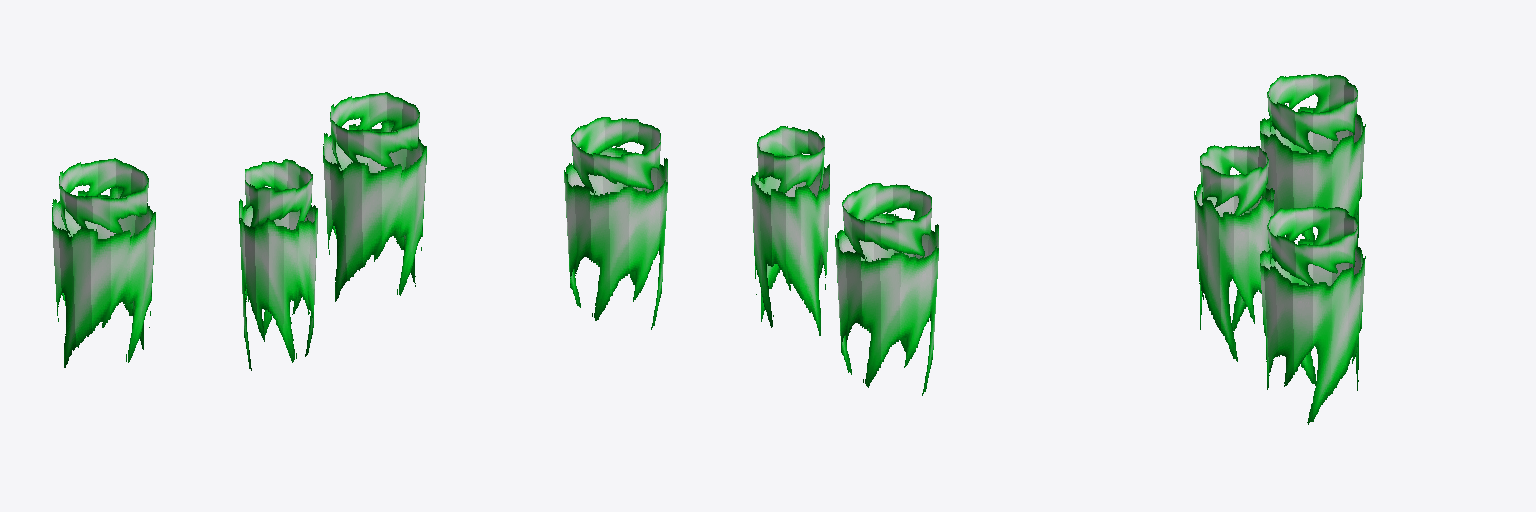
The picture shows the model from 3 angles: view 1: azimuth 30°, elevation 25°; view 2: azimuth 150°, elevation 25°; view 3: azimuth 270°, elevation 25°; orthographic projection.
Parts seen in each view (by area): view 1: 4-T0NJetpackDisplayMeshFlare_4-T0N_Jetpack_Display_Flare; view 2: 4-T0NJetpackDisplayMeshFlare_4-T0N_Jetpack_Display_Flare; view 3: 4-T0NJetpackDisplayMeshFlare_4-T0N_Jetpack_Display_Flare.
Part boxes in pixels (x1,y1,x2,y2): 4-T0NJetpackDisplayMeshFlare_4-T0N_Jetpack_Display_Flare: (52,92,426,370); 4-T0NJetpackDisplayMeshFlare_4-T0N_Jetpack_Display_Flare: (564,117,938,395); 4-T0NJetpackDisplayMeshFlare_4-T0N_Jetpack_Display_Flare: (1194,74,1365,424).
Bounding box in the file's own units: 1.05 × 0.575 × 0.4326.
1 materials, 1 textured.